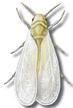whitefly: (5, 2, 73, 107)
